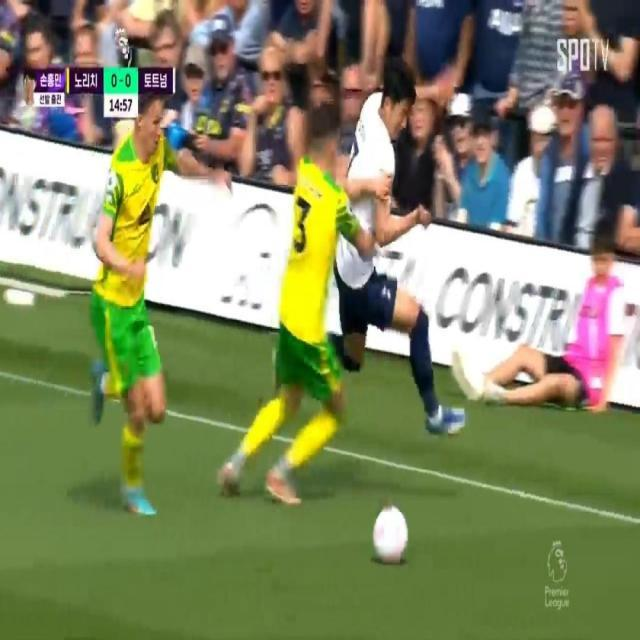ball: (368, 503, 414, 574)
player: (85, 85, 201, 535), (243, 97, 357, 500), (337, 66, 442, 377)
